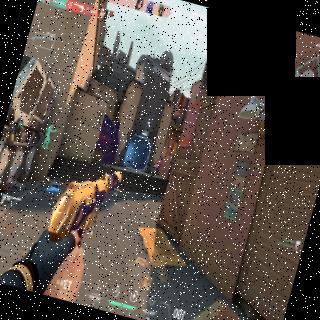ENEMY-BODY: (153, 155, 163, 176)
